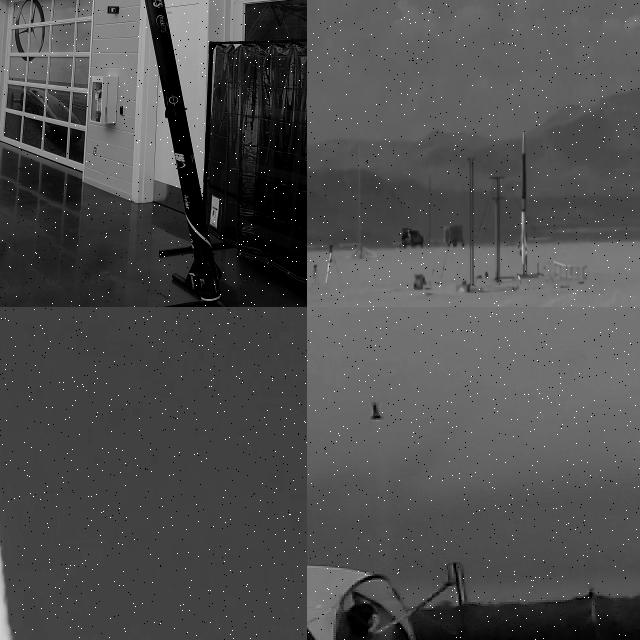Rocket: (144, 0, 222, 299), (518, 130, 528, 264), (369, 398, 383, 422)
